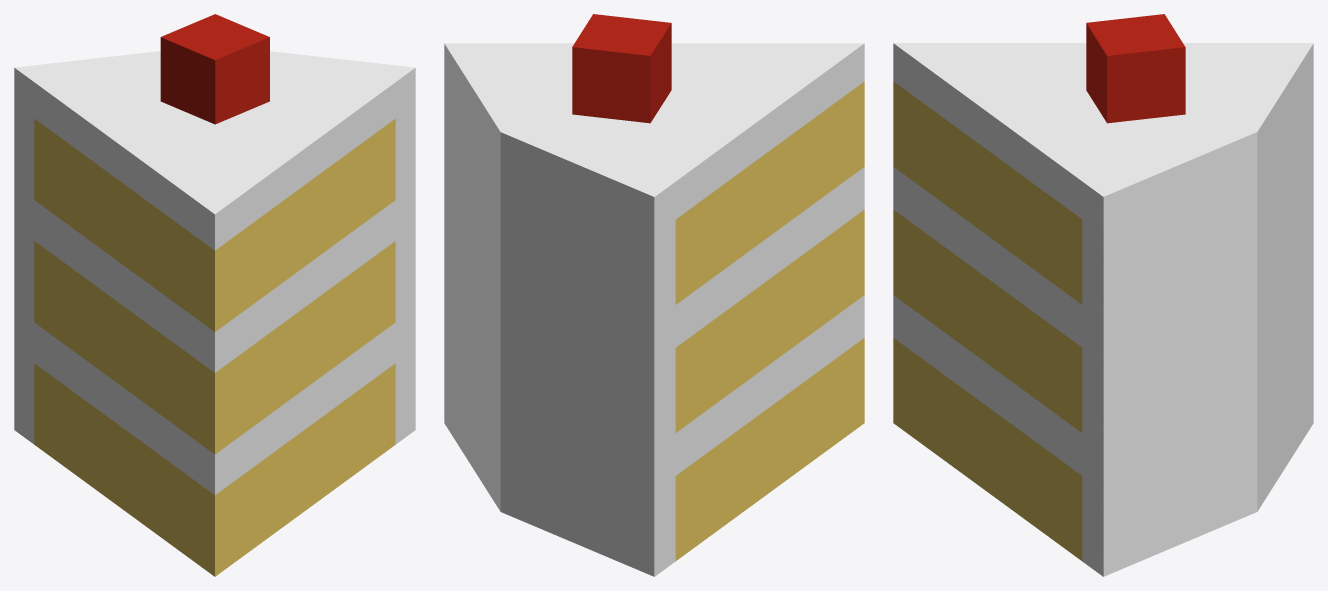
File: CandylandCake_02.fbx
3 views of the same model, side by side, from view 1: azimuth 30°, elevation 25°; view 2: azimuth 150°, elevation 25°; view 3: azimuth 270°, elevation 25° (orthographic). The views are drawn at different scales.
Visible parts, largest first — view 1: CandylandCake_02; view 2: CandylandCake_02; view 3: CandylandCake_02.
Boxes of the visible parts, x1,y1,x2,y2 form: CandylandCake_02: [14, 14, 415, 576]; CandylandCake_02: [444, 14, 864, 576]; CandylandCake_02: [893, 14, 1313, 576].
Size of the model in its own units: 0.5801 by 0.7863 by 0.6699.
